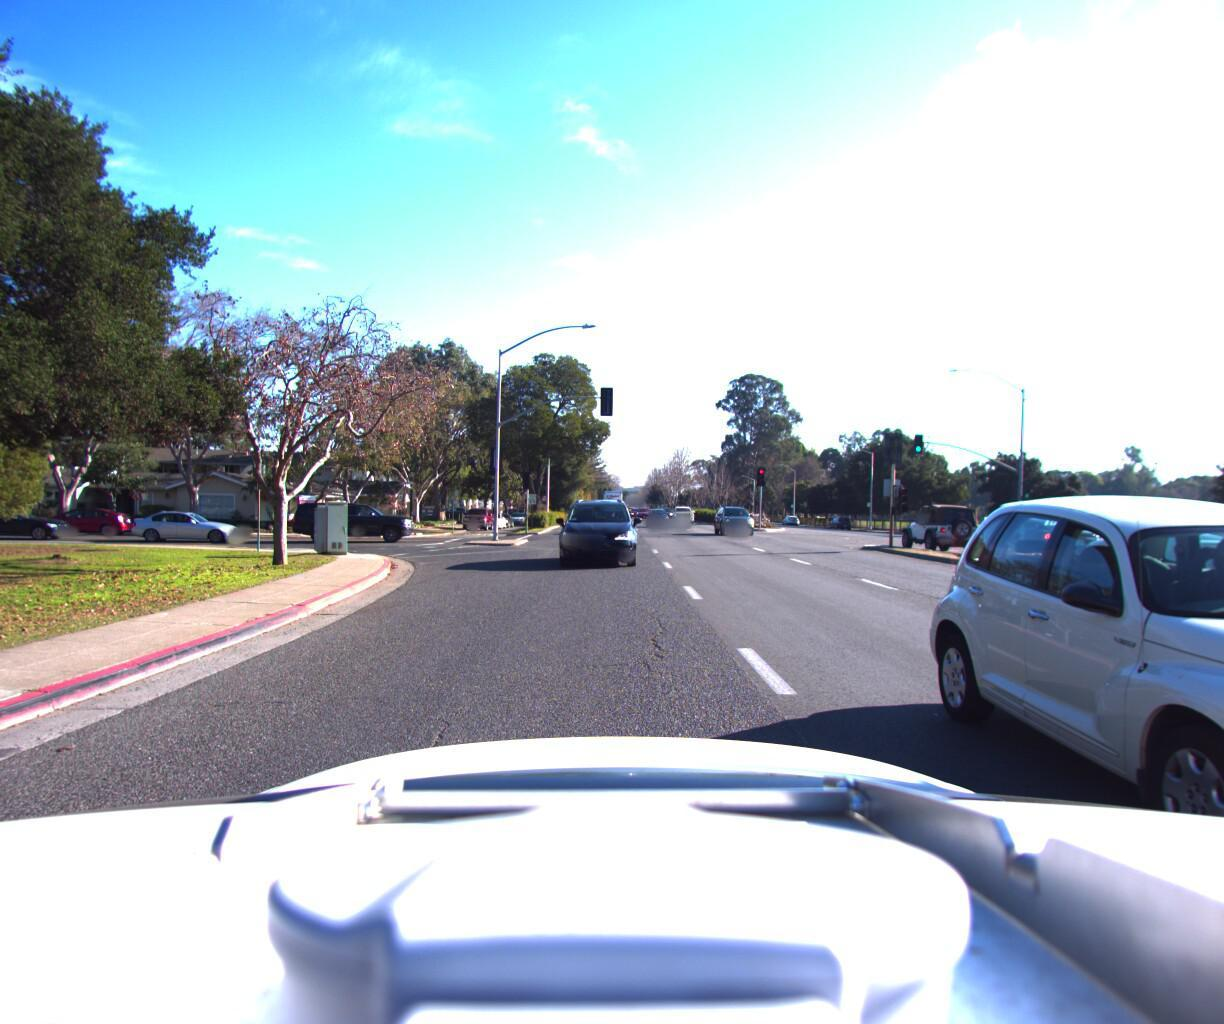car: (904, 462, 1224, 1024), (552, 497, 640, 581), (286, 507, 423, 553), (895, 507, 990, 560), (125, 515, 248, 550), (33, 511, 141, 545), (0, 511, 82, 549), (709, 509, 752, 543), (461, 513, 495, 538), (669, 510, 695, 531), (642, 514, 669, 534)
